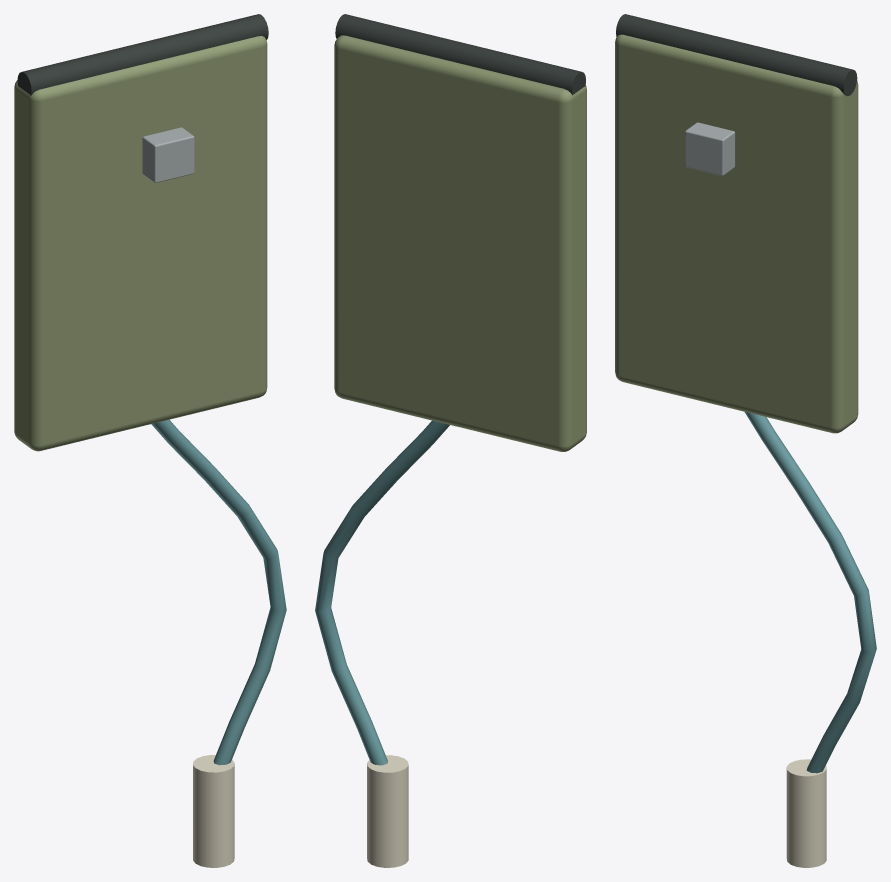
Rendered from water-collection-and-purification-gravity-filter-bag-73d74613__20191.glb.
The picture shows the model from 3 angles, left to right: view 1: azimuth 30°, elevation 25°; view 2: azimuth 150°, elevation 25°; view 3: azimuth 330°, elevation 25°; orthographic projection. The views are drawn at different scales.
Parts seen in each view (by area): view 1: gravity-filter-bag; view 2: gravity-filter-bag; view 3: gravity-filter-bag.
Part boxes in pixels (bbox=[...]): gravity-filter-bag: bbox=[14, 14, 286, 867]; gravity-filter-bag: bbox=[315, 14, 586, 867]; gravity-filter-bag: bbox=[615, 14, 876, 867].
Size of the model in its own units: 0.2891 by 0.8735 by 0.0875.
